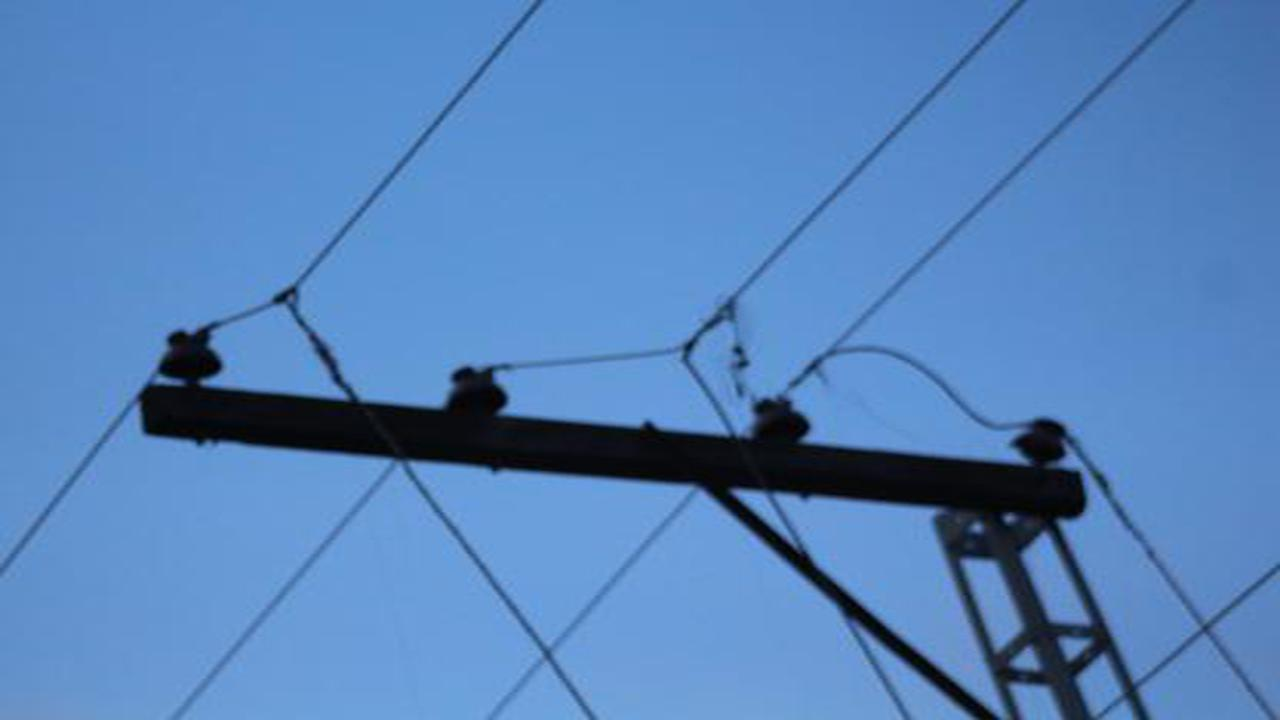defect_pin: (1003, 414, 1079, 471)
insulator_pin: (440, 361, 520, 422), (740, 386, 820, 447), (155, 323, 226, 386)
